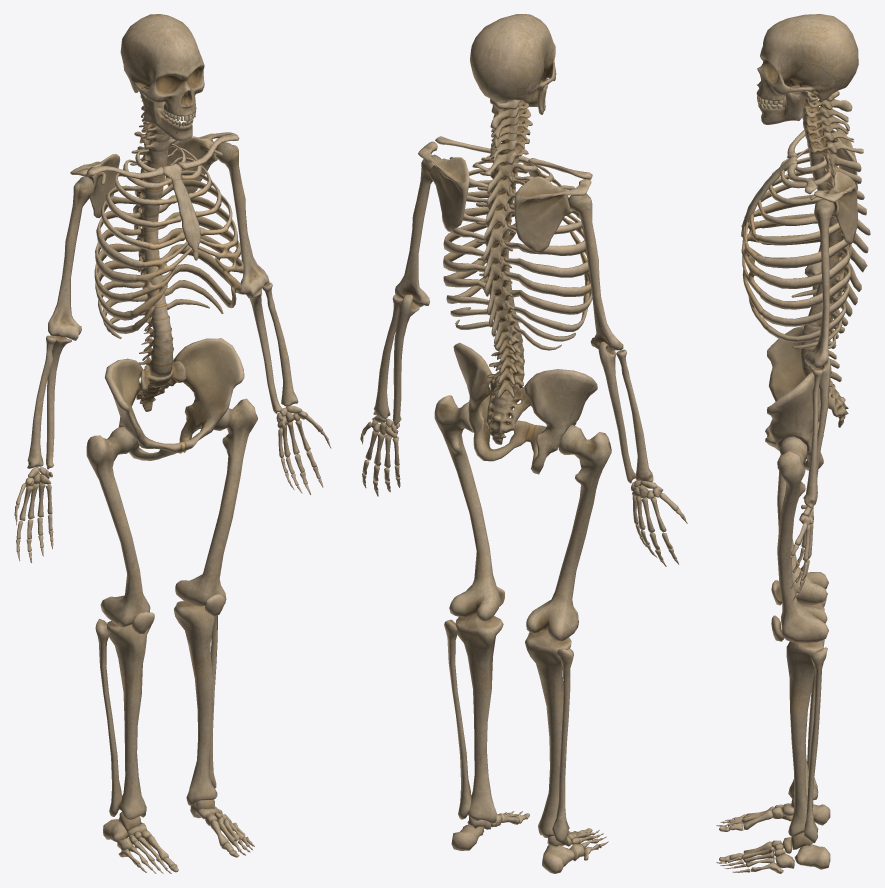
The picture shows the model from 3 angles, left to right: view 1: azimuth 30°, elevation 25°; view 2: azimuth 150°, elevation 25°; view 3: azimuth 270°, elevation 25°; orthographic projection. The views are drawn at different scales.
Visible parts, largest first — view 1: Back_low_B.001; view 2: Back_low_B.001; view 3: Back_low_B.001.
Boxes of the visible parts, x1,y1,x2,y2 form: Back_low_B.001: [14, 14, 331, 873]; Back_low_B.001: [360, 14, 687, 873]; Back_low_B.001: [716, 14, 870, 873].
Bounding box in the file's own units: 0.6447 × 1.59 × 0.2679.
1 material, 1 textured.
